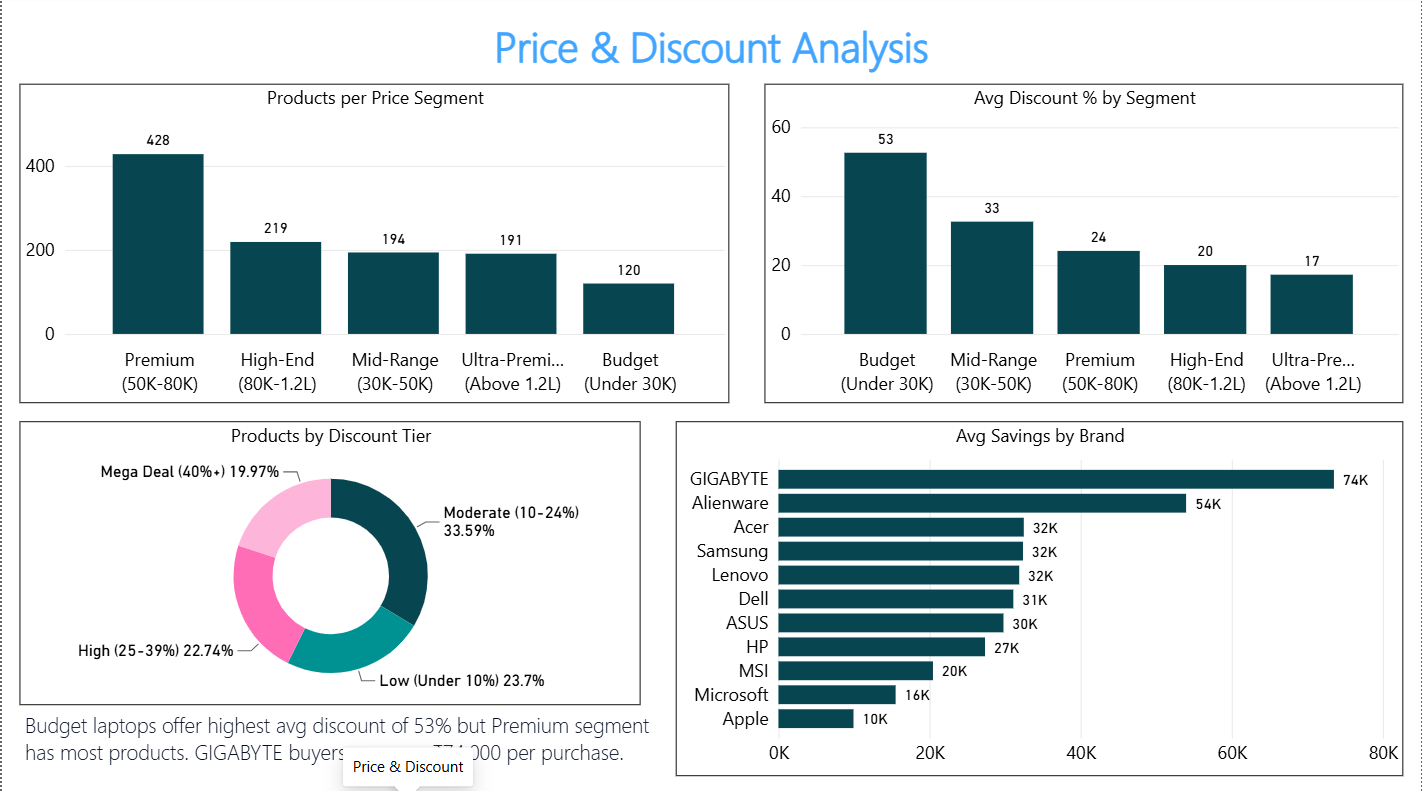

What the dashboard file says about the page in this screenshot:
{"tool":"powerbi","page":{"name":"Price & Discount","canvas":[1280,720],"ordinal":2},"visuals":[{"type":"textbox","box":[16,16,1248,80],"z":0},{"type":"clusteredColumnChart","title":"Products per Price Segment","fields":{"Category":["ecommerce_analytics vw_price_segments.price_segment"],"Y":["Sum(ecommerce_analytics vw_price_segments.total_products)"]},"box":[16,80,640,288],"z":1000},{"type":"clusteredColumnChart","title":"Avg Discount % by Segment","fields":{"Category":["ecommerce_analytics vw_price_segments.price_segment"],"Y":["Sum(ecommerce_analytics vw_price_segments.avg_discount)"]},"box":[688,80,576,288],"z":2000},{"type":"donutChart","title":"Products by Discount Tier","fields":{"Category":["ecommerce_analytics vw_all_products.discount_tier"],"Y":["CountNonNull(ecommerce_analytics vw_all_products.product_name)"]},"box":[16,384,560,256],"z":3000},{"type":"clusteredBarChart","title":"Avg Savings by Brand","fields":{"Category":["ecommerce_analytics vw_brand_performance.brand"],"Y":["Sum(ecommerce_analytics vw_brand_performance.avg_savings)"]},"box":[608,384,656,320],"z":4000},{"type":"textbox","box":[16,640,576,64],"z":5000}]}

Visuals, with their boxes in screenshot pixels (x1, y1, x2, y2), scaled from the page's 1280x720 canvas onto the 1422x791 screenshot:
textbox: {"x1": 18, "y1": 18, "x2": 1404, "y2": 105}
"Products per Price Segment" clusteredColumnChart: {"x1": 18, "y1": 88, "x2": 729, "y2": 404}
"Avg Discount % by Segment" clusteredColumnChart: {"x1": 764, "y1": 88, "x2": 1404, "y2": 404}
"Products by Discount Tier" donutChart: {"x1": 18, "y1": 422, "x2": 640, "y2": 703}
"Avg Savings by Brand" clusteredBarChart: {"x1": 675, "y1": 422, "x2": 1404, "y2": 773}
textbox: {"x1": 18, "y1": 703, "x2": 658, "y2": 773}
